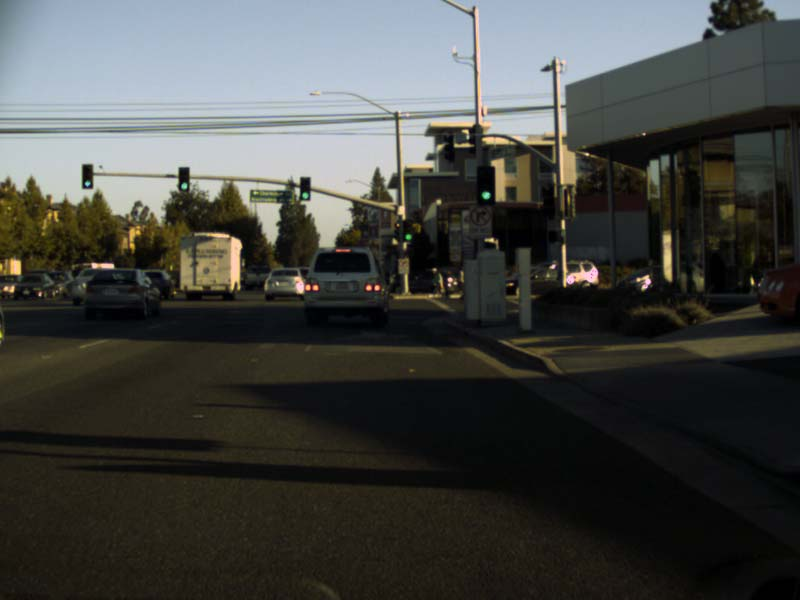Green: (476, 167, 494, 203), (81, 165, 92, 188), (299, 176, 308, 200), (179, 167, 187, 190), (402, 221, 411, 241)
